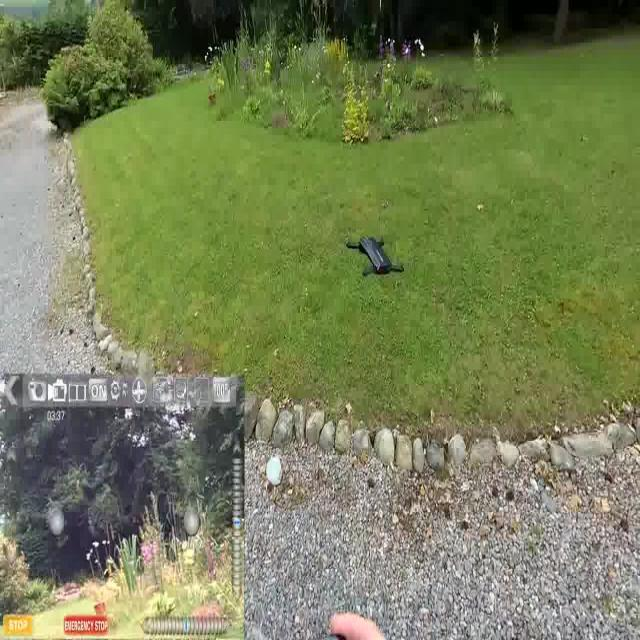drone: (342, 228, 408, 286)
